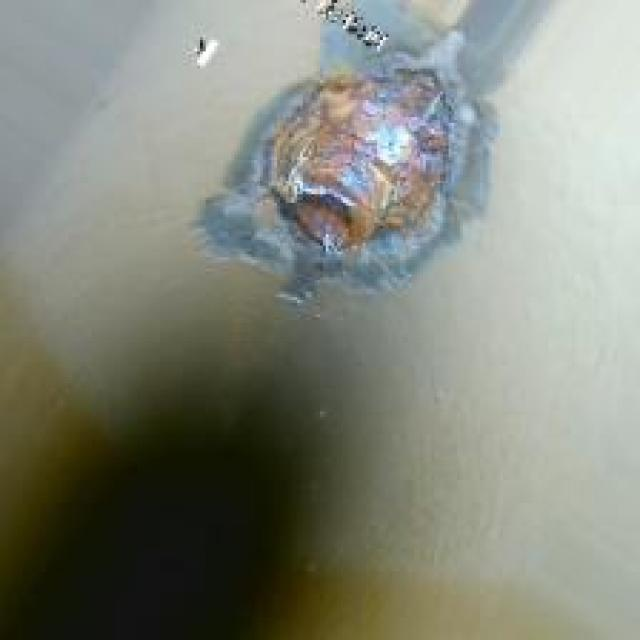ferrule: (266, 54, 437, 266)
